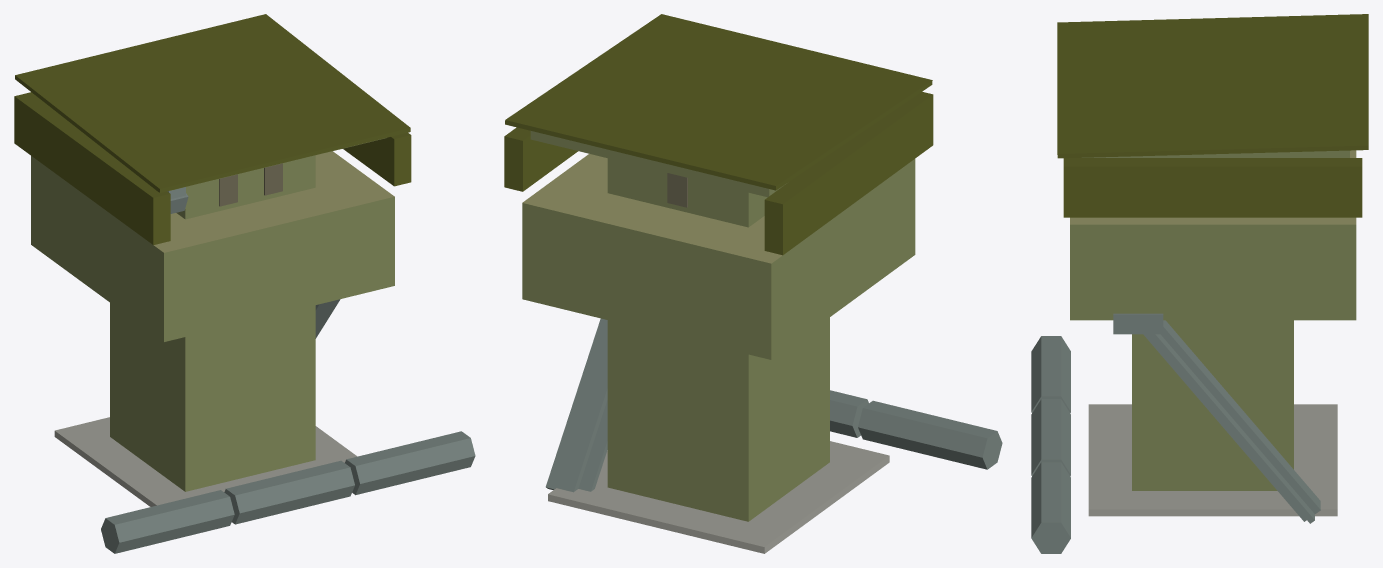
File: SM_TorretaVigia_v4_LOD1.fbx
3 renders of one model, left to right at view 1: azimuth 30°, elevation 25°; view 2: azimuth 150°, elevation 25°; view 3: azimuth 270°, elevation 25°, orthographic. The views are drawn at different scales.
Parts seen in each view (by area): view 1: SM_torreta_vigia_v4_LOD1; view 2: SM_torreta_vigia_v4_LOD1; view 3: SM_torreta_vigia_v4_LOD1.
Boxes of the visible parts, x1,y1,x2,y2 form: SM_torreta_vigia_v4_LOD1: [14, 14, 475, 553]; SM_torreta_vigia_v4_LOD1: [504, 14, 1002, 553]; SM_torreta_vigia_v4_LOD1: [1031, 14, 1368, 553].
Bounding box in the file's own units: 7.1 × 6.9 × 5.42.
